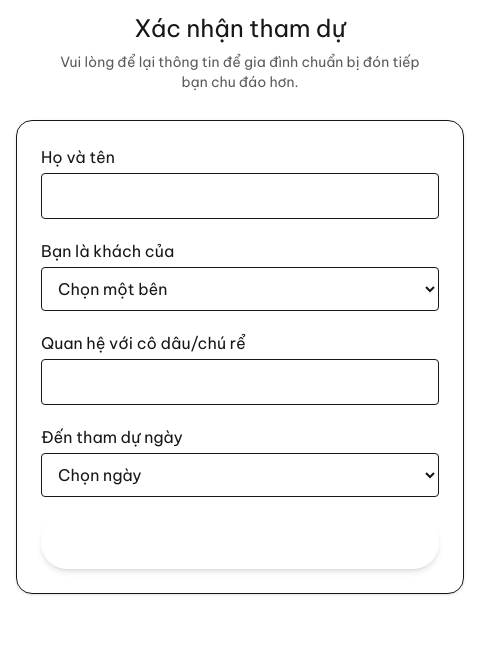
it: Form xác nhận tham dự › báo lỗi thân thiện khi API trả về lỗi
Type "Lê Văn Toàn" into the field labelled "Họ và tên" at x=240, y=196, box 41,173 -> 439,219
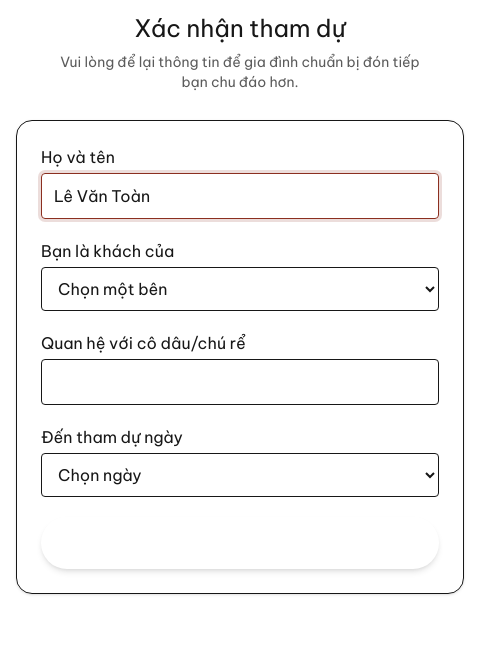
Select "Nhà trai" in the dropdown labelled "Bạn là khách của" at x=240, y=289, box 41,267 -> 439,311
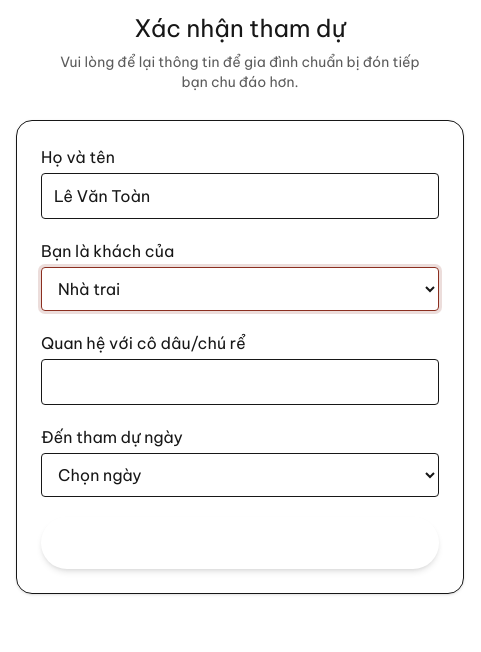
Type "Bạn học chú rể" into the field labelled "Quan hệ với cô dâu/chú rể" at x=240, y=382, box 41,359 -> 439,405
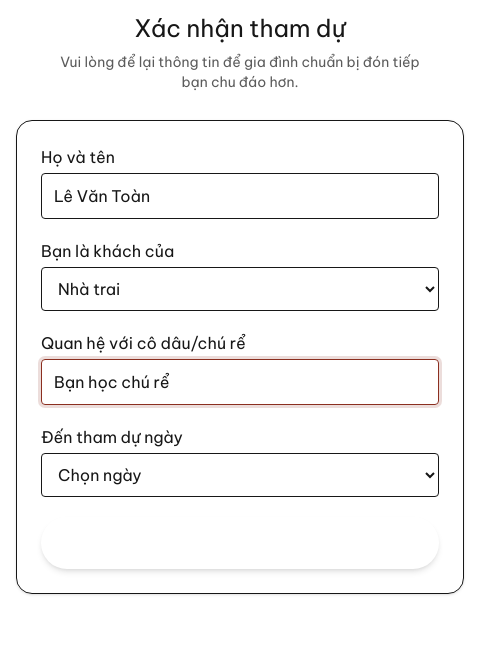
Select "14/11/2026" in the dropdown labelled "Đến tham dự ngày" at x=240, y=475, box 41,453 -> 439,497
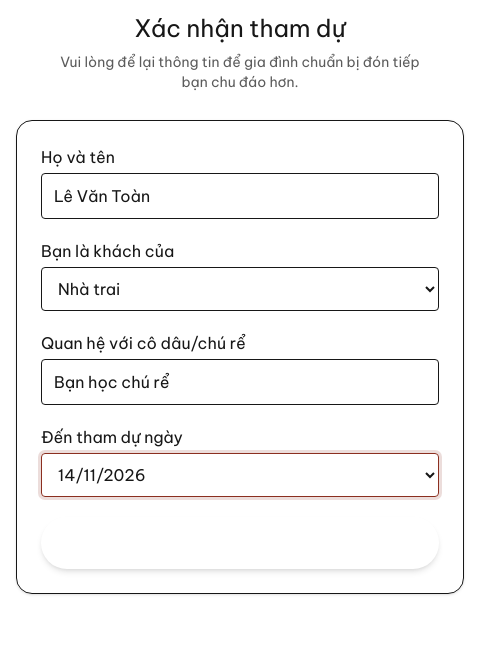
Click the button "Gửi xác nhận" at x=240, y=543, box 41,517 -> 439,569
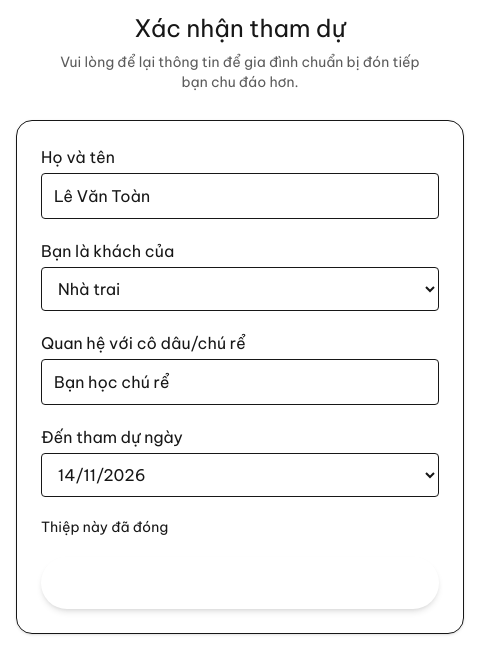
Now the message reads "Thiệp này đã đóng", box 41,518 -> 168,536
